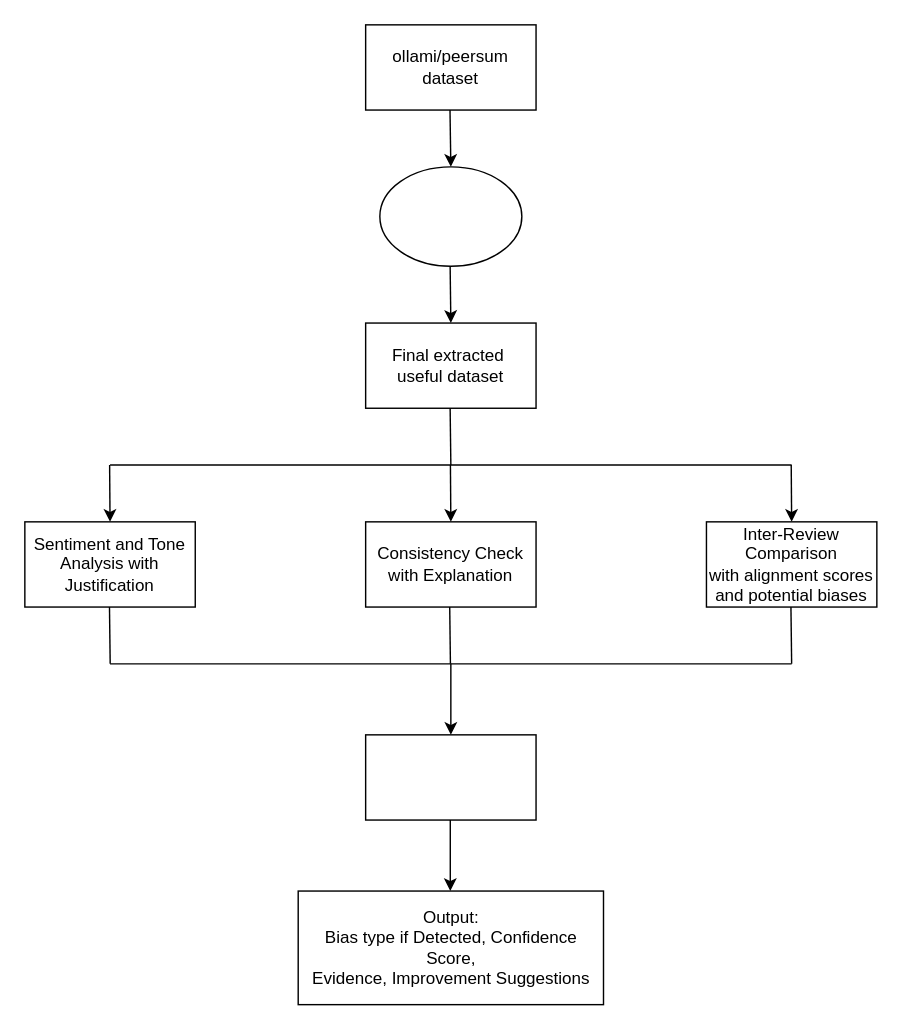
Image size: 902x1030. Some labels were removed from this diagram. Here are the shapes that lost their labels. From the top down, the box of each, then its label:
(378, 165, 522, 266): Preprocessing and Sampling
(364, 733, 536, 820): Bias Detection using Specialized Agent
